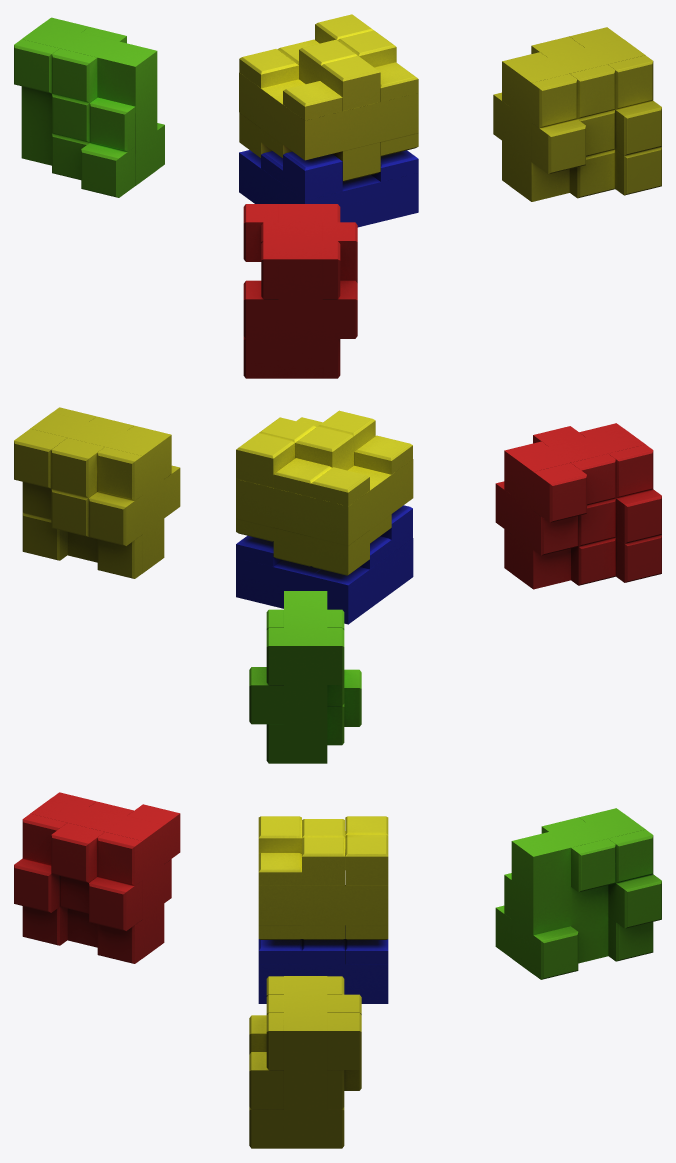
The model's file is stage_2_lightmaps.obj.
The picture shows the model from 3 angles, top to bottom: view 1: azimuth 30°, elevation 25°; view 2: azimuth 150°, elevation 25°; view 3: azimuth 270°, elevation 25°; orthographic projection.
Visible parts, largest first — view 1: stage_2.001; view 2: stage_2.001; view 3: stage_2.001.
Boxes of the visible parts, x1,y1,x2,y2 form: stage_2.001: (14, 14, 661, 378); stage_2.001: (14, 407, 661, 763); stage_2.001: (14, 792, 661, 1148).
Bounding box in the file's own units: 67.1 × 22.78 × 74.87.
Materials: 1 (1 with a texture image).
